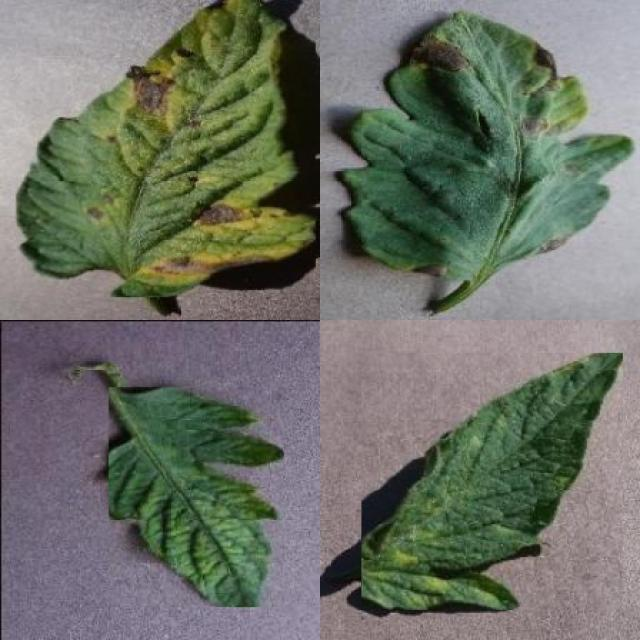Early Blight: (16, 0, 316, 297), (338, 11, 633, 276)
Leaf Mold: (361, 354, 623, 610)
Mosaic Virus: (109, 387, 284, 607)
